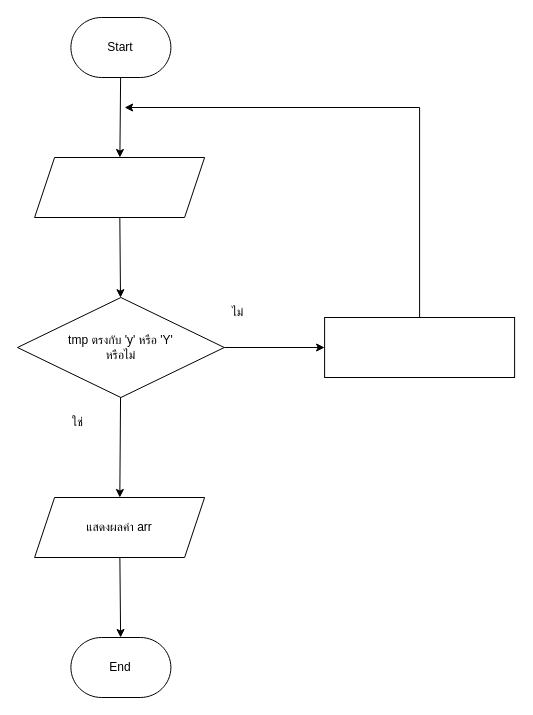
Some shapes in this 533 by 715 pixel diagram are drawn without their labels. Each missing label, with the box of its shape:
รับค่า tmp: (34, 156, 205, 218)
เก็บค่า tmp ลงใน arr: (324, 316, 515, 378)
